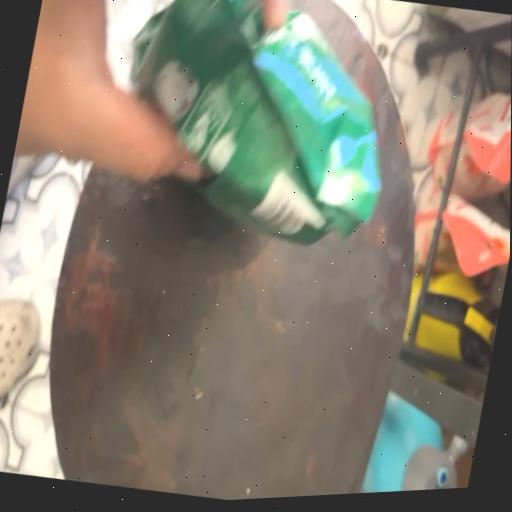cafe_xay: (131, 0, 380, 244)
